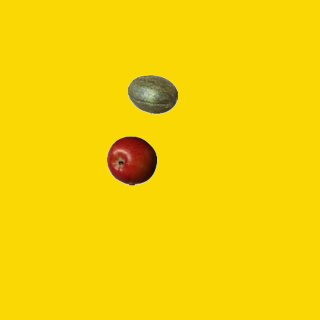Apple Braeburn: (106, 135, 156, 185)
Melon Piel de Sapo: (127, 69, 177, 119)
